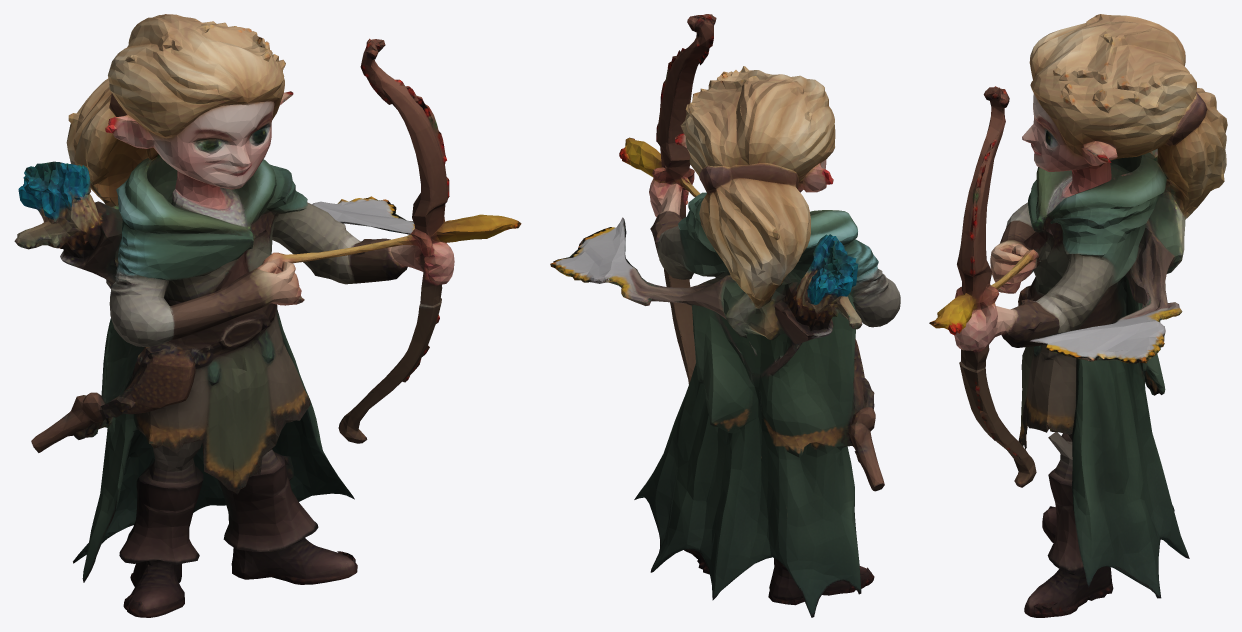
The model's file is modell.glb.
3 views of the same model, side by side, from view 1: azimuth 30°, elevation 25°; view 2: azimuth 150°, elevation 25°; view 3: azimuth 270°, elevation 25° (orthographic). The views are drawn at different scales.
Parts seen in each view (by area): view 1: world; view 2: world; view 3: world.
Boxes of the visible parts, x1,y1,x2,y2 form: world: (14,14,521,617); world: (550,14,900,617); world: (929,14,1227,617).
Size of the model in its own units: 0.725 by 0.9987 by 0.5026.
Materials: 1 (1 with a texture image).
